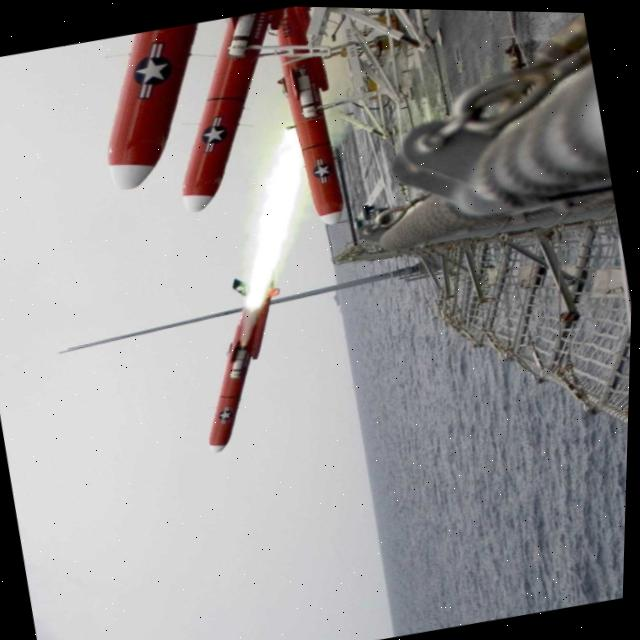missile: (139, 5, 312, 217), (74, 19, 228, 197), (178, 266, 308, 454), (265, 5, 364, 229)
